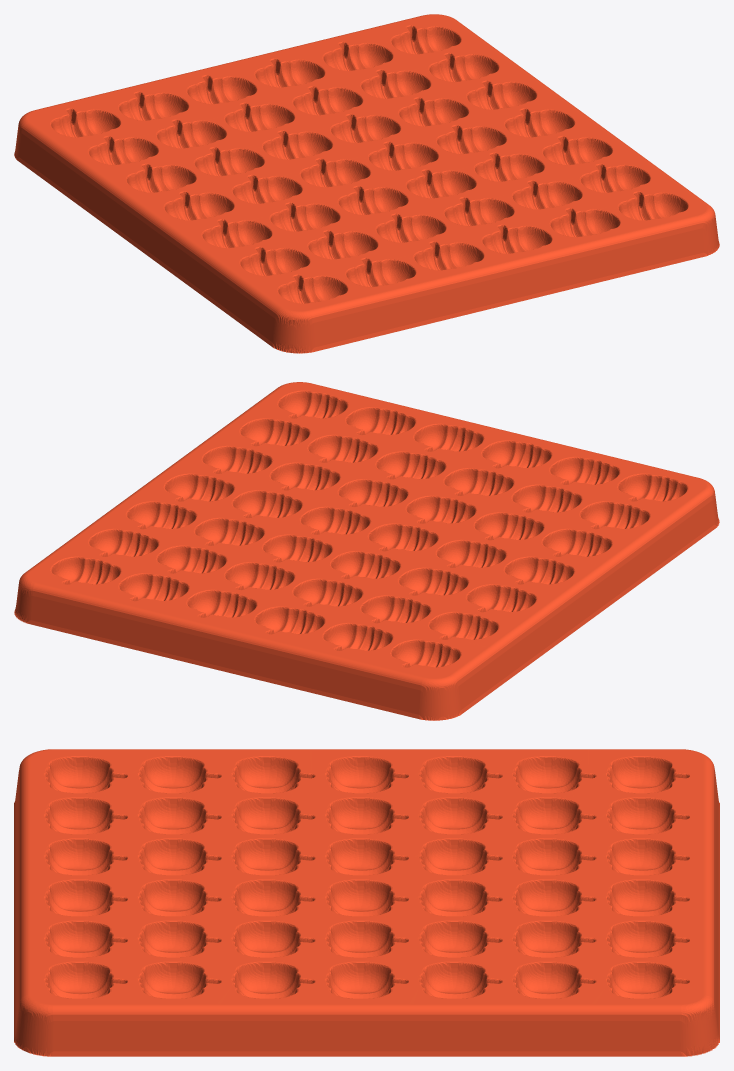
The model's file is mold.glb.
The picture shows the model from 3 angles, top to bottom: view 1: azimuth 30°, elevation 25°; view 2: azimuth 150°, elevation 25°; view 3: azimuth 270°, elevation 25°; orthographic projection. The views are drawn at different scales.
Visible parts, largest first — view 1: geometry_0; view 2: geometry_0; view 3: geometry_0.
Boxes of the visible parts, left/top/right/bottom form: geometry_0: left=14, top=14, right=719, bottom=353; geometry_0: left=14, top=382, right=719, bottom=720; geometry_0: left=14, top=749, right=719, bottom=1056.
Bounding box in the file's own units: 0.1437 × 0.0114 × 0.16.
